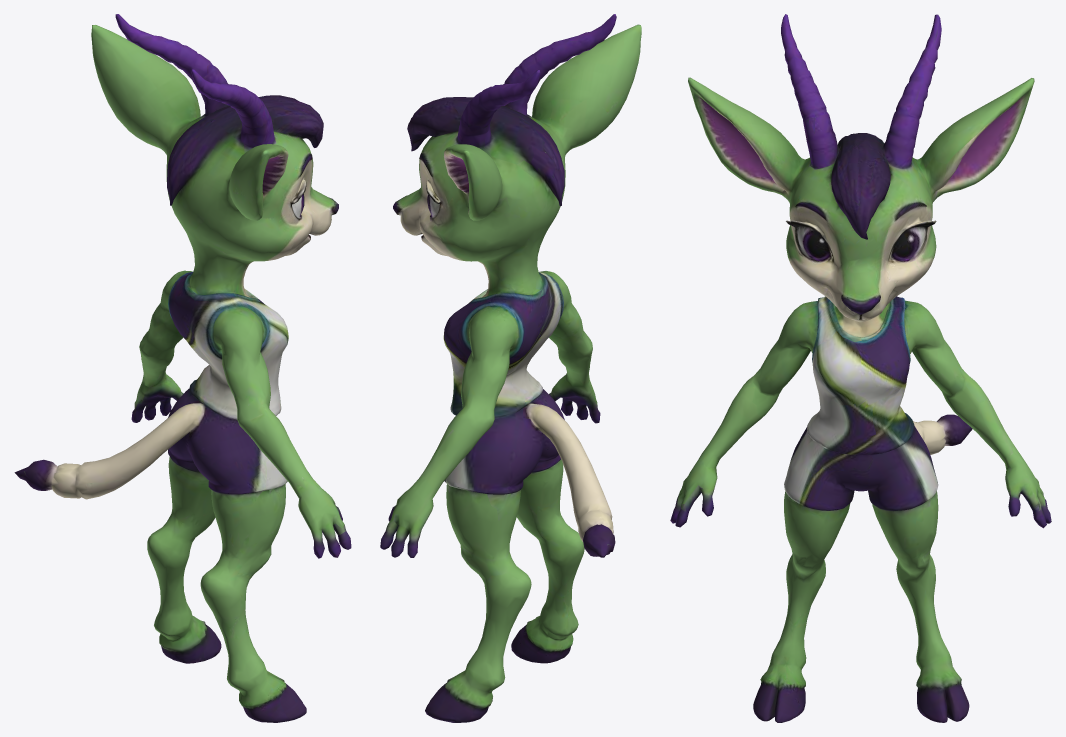
Rendered from 500009633-static-p1.glb.
The picture shows the model from 3 angles, left to right: view 1: azimuth 30°, elevation 25°; view 2: azimuth 150°, elevation 25°; view 3: azimuth 270°, elevation 25°; orthographic projection.
Visible parts, largest first — view 1: tripo_node_b7a02ac1-b35a-461e-a34d-79fb188128ce; view 2: tripo_node_b7a02ac1-b35a-461e-a34d-79fb188128ce; view 3: tripo_node_b7a02ac1-b35a-461e-a34d-79fb188128ce.
Part boxes in pixels (x1,y1,x2,y2): tripo_node_b7a02ac1-b35a-461e-a34d-79fb188128ce: (14, 14, 351, 722); tripo_node_b7a02ac1-b35a-461e-a34d-79fb188128ce: (380, 14, 641, 722); tripo_node_b7a02ac1-b35a-461e-a34d-79fb188128ce: (670, 14, 1051, 722).
Bounding box in the file's own units: 0.5038 × 1.2 × 0.6295.
1 material, 1 textured.
